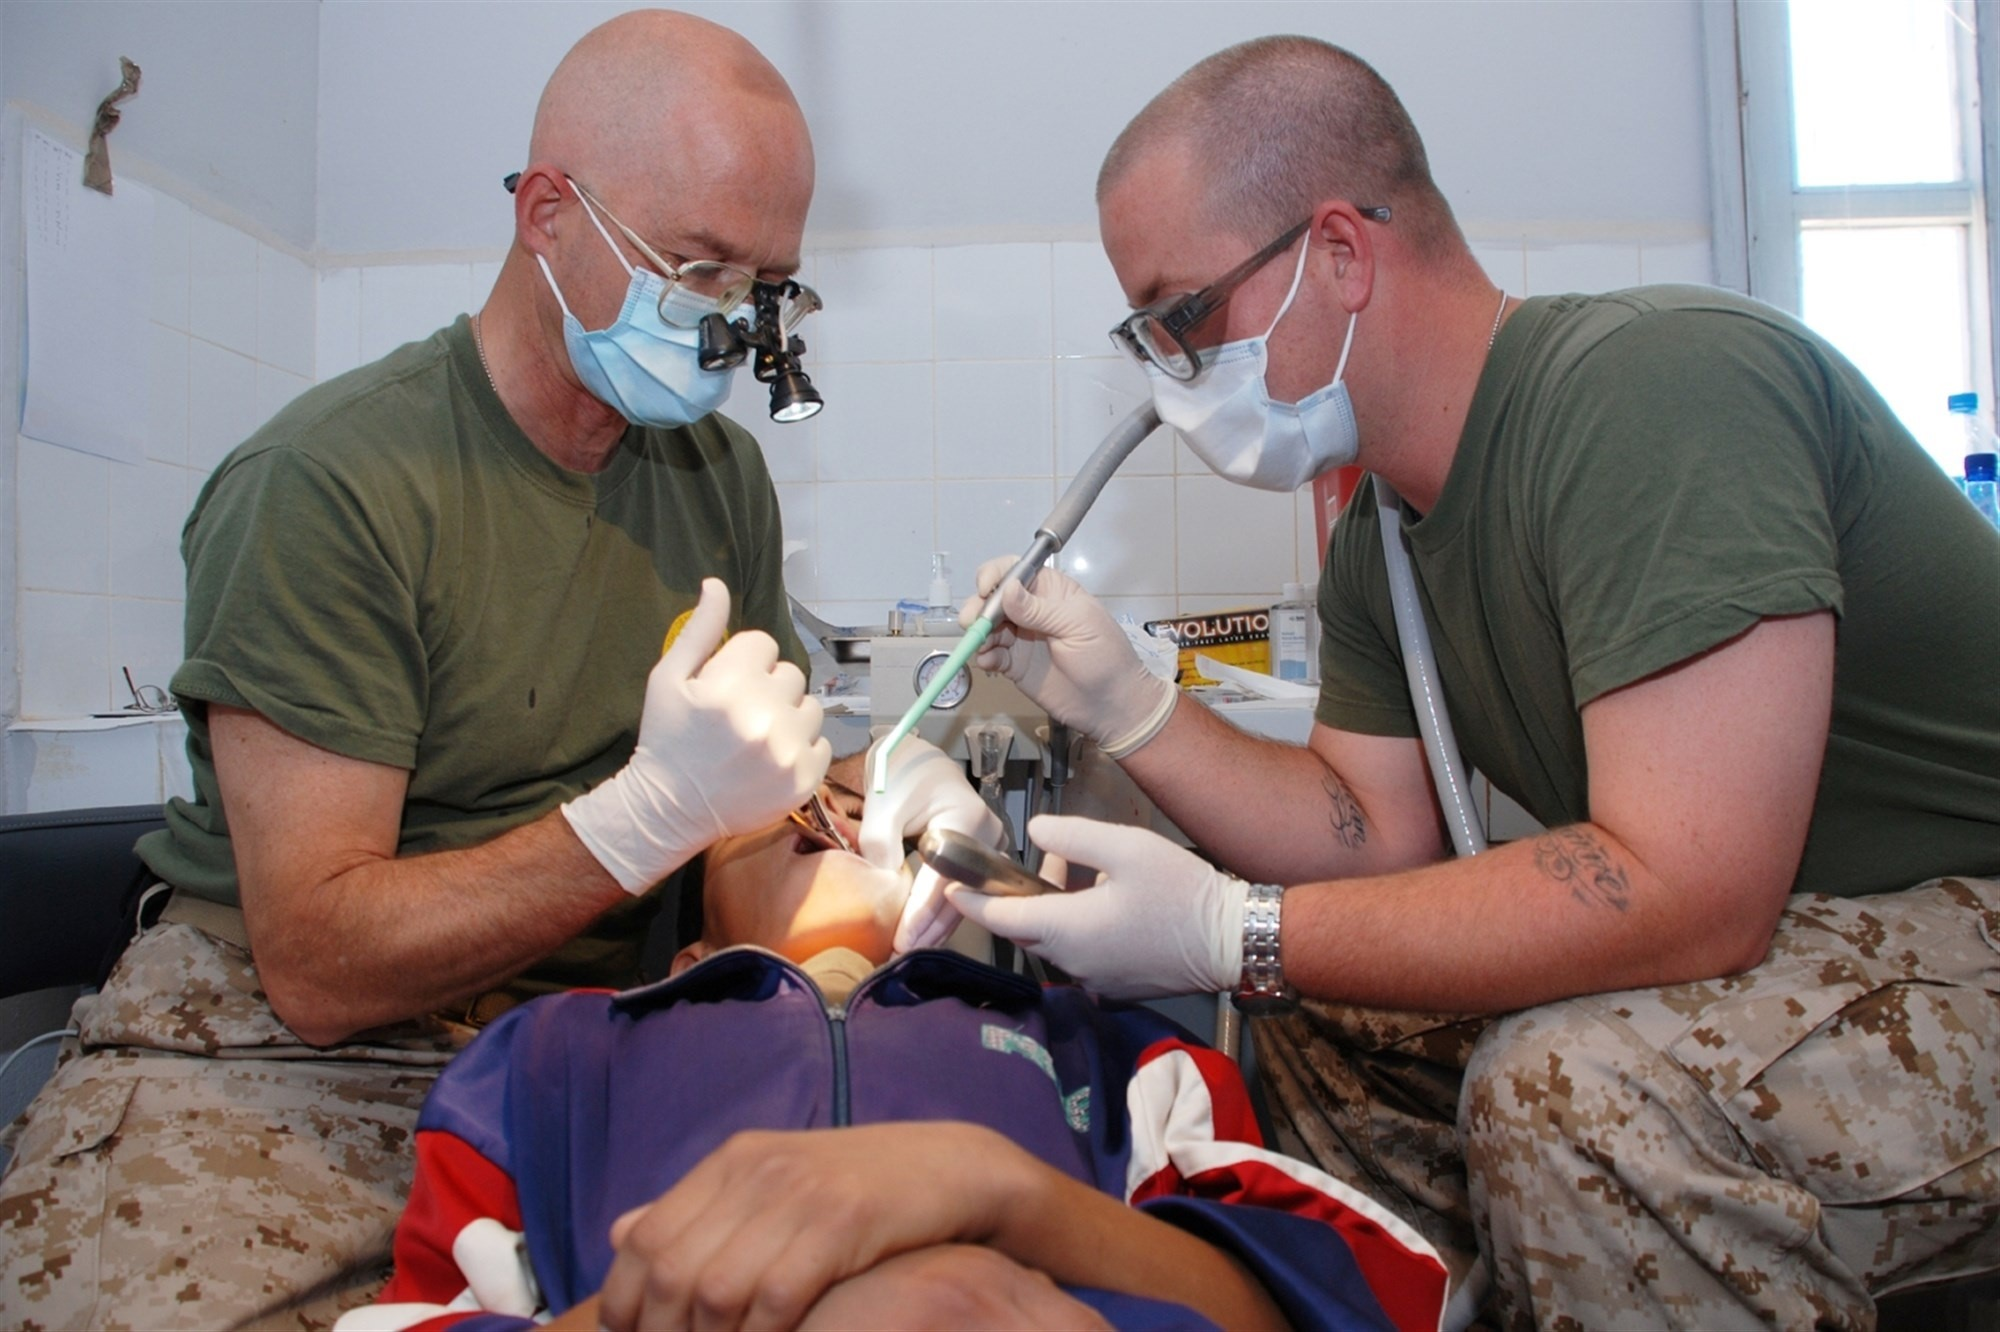face_no_mask: (691, 792, 916, 974)
face_with_mask: (1089, 31, 1419, 491), (519, 10, 833, 450)
